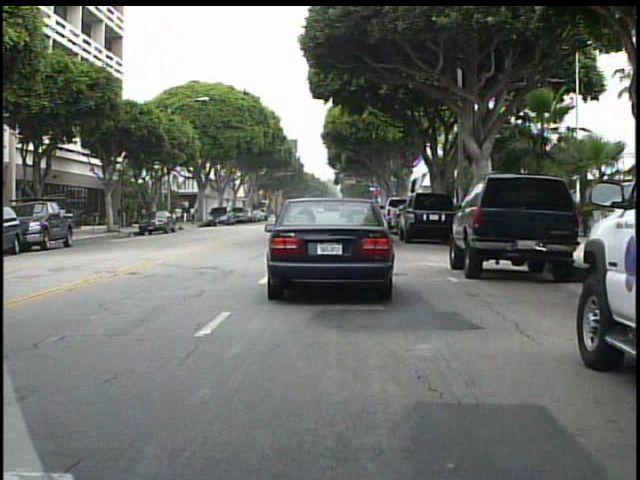person: (187, 202, 199, 228), (177, 203, 185, 226)
